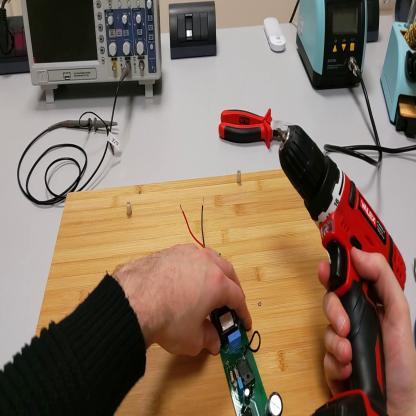electric screwdriver: (273, 124, 408, 413)
hand: (319, 244, 416, 416), (136, 243, 254, 359)
high voltage board: (179, 199, 283, 416)
oscilloscope: (22, 2, 161, 107)
oscilloscope probe tip: (60, 119, 119, 136)
socket: (1, 13, 30, 78), (367, 2, 381, 45), (396, 2, 416, 20)
welder base: (383, 15, 416, 142)
welder station: (299, 3, 370, 89)
working area: (35, 169, 335, 415)
